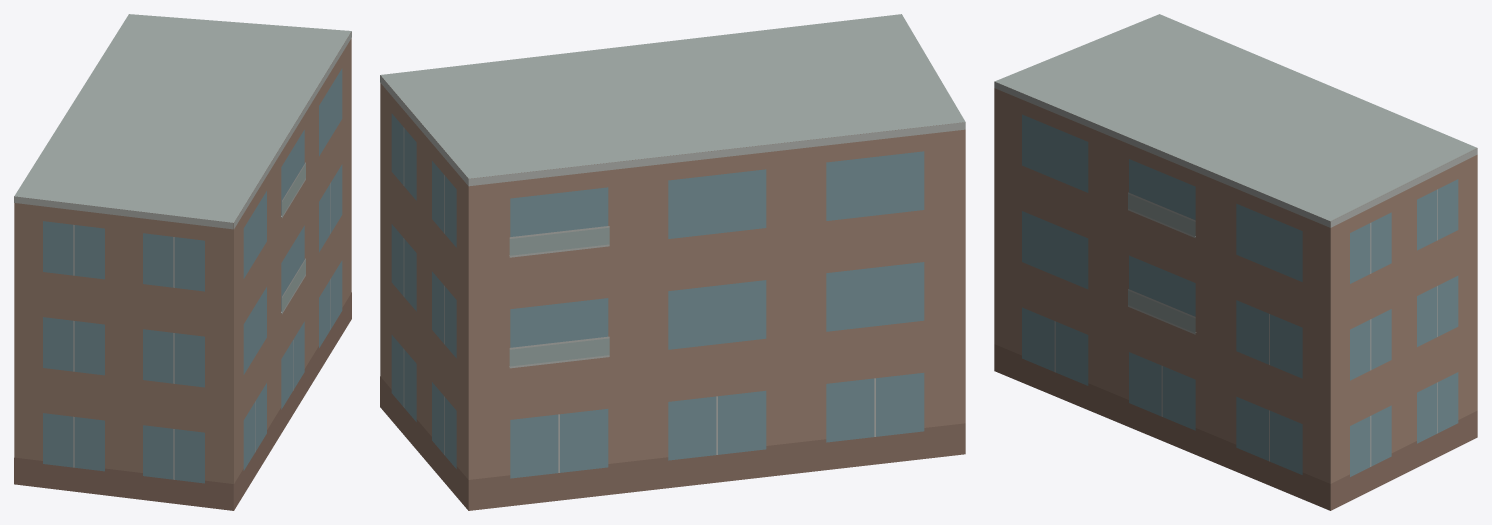
File: survey-upis-32915814.glb
The picture shows the model from 3 angles, left to right: view 1: azimuth 30°, elevation 25°; view 2: azimuth 150°, elevation 25°; view 3: azimuth 270°, elevation 25°; orthographic projection. The views are drawn at different scales.
Visible parts, largest first — view 1: survey-upis-32915814.tmp; view 2: survey-upis-32915814.tmp; view 3: survey-upis-32915814.tmp.
Boxes of the visible parts, box(x1,y1,x2,y2) form: survey-upis-32915814.tmp: box(14, 14, 351, 510); survey-upis-32915814.tmp: box(380, 14, 965, 510); survey-upis-32915814.tmp: box(994, 14, 1477, 510).
Bounding box in the file's own units: 16.52 × 10.75 × 16.27.
